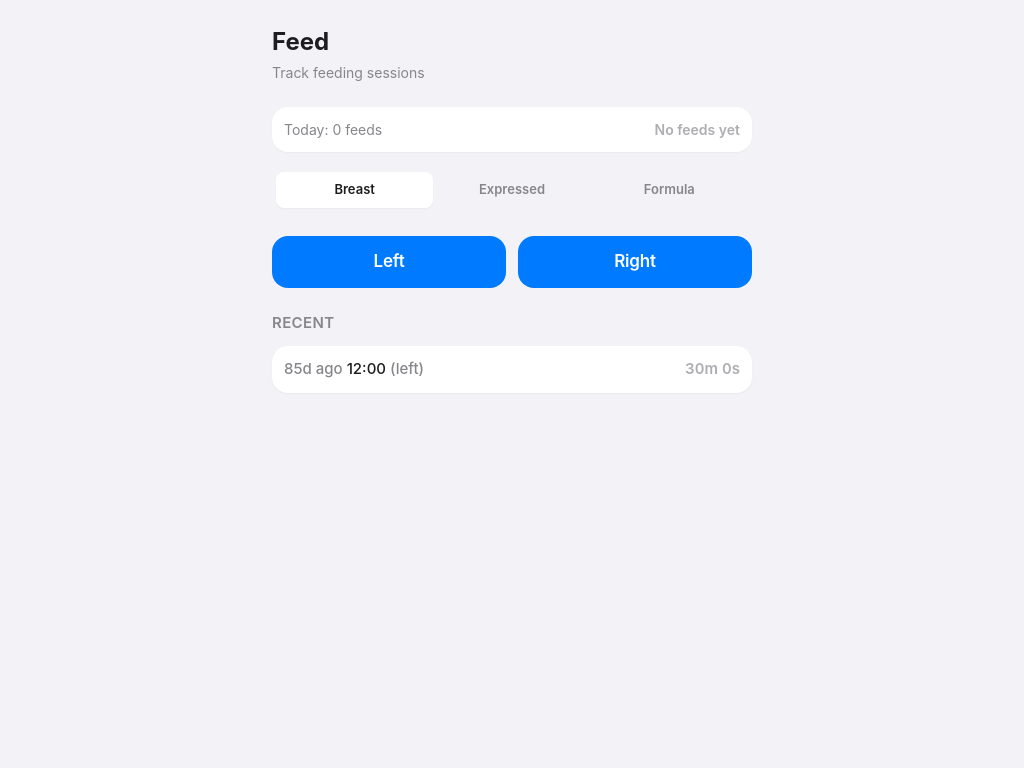
Test: Feed › shows error toast for invalid amount
Step 1. Click the button "Formula" → click(669, 190), box [591,172,748,208]
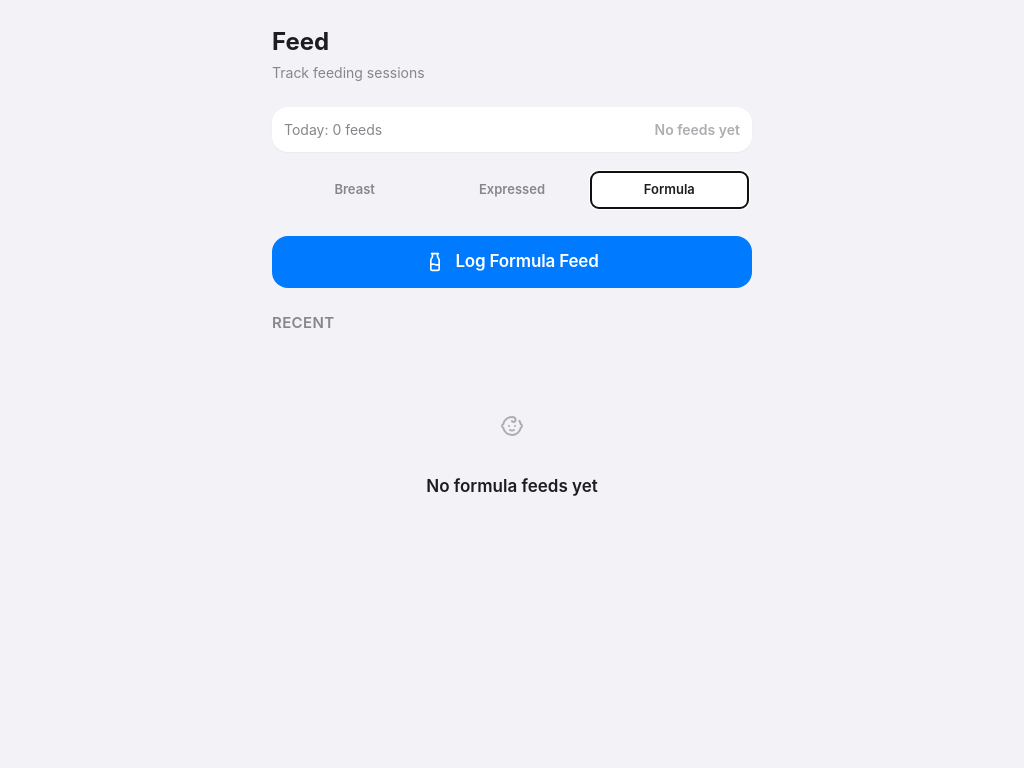
Step 2. Click the button "Log Formula Feed" → click(512, 262), box [272,236,752,288]
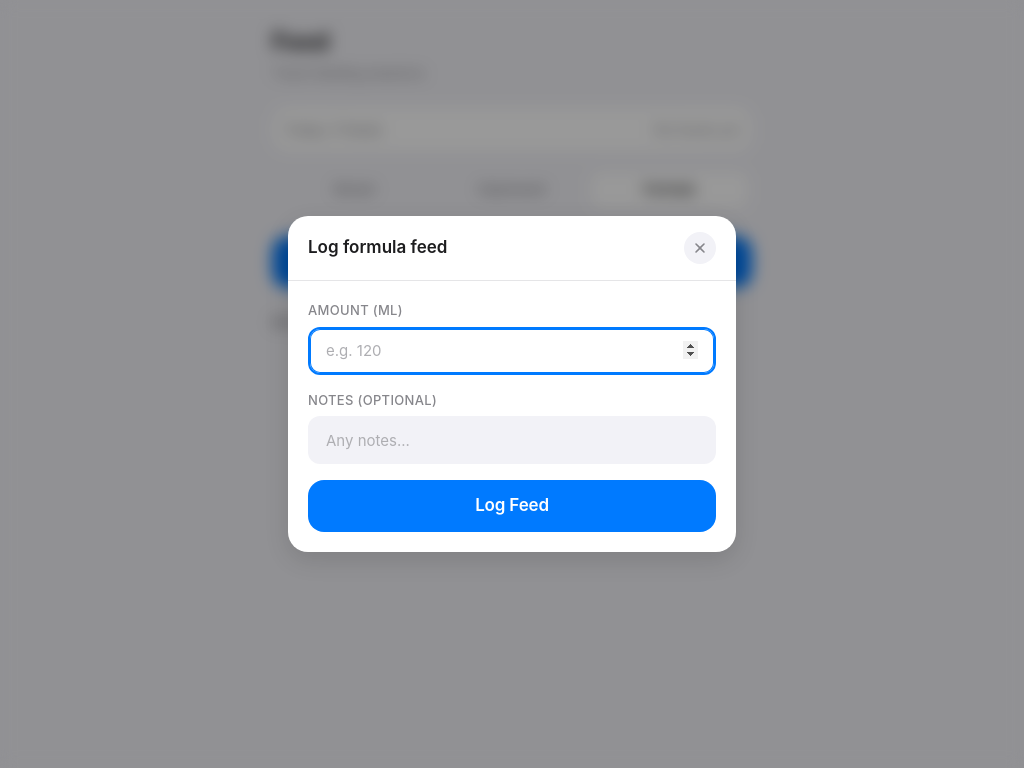
Submit without entering an amount
Step 3. Click the button "Log Feed" → click(512, 506), box [308,480,716,532]
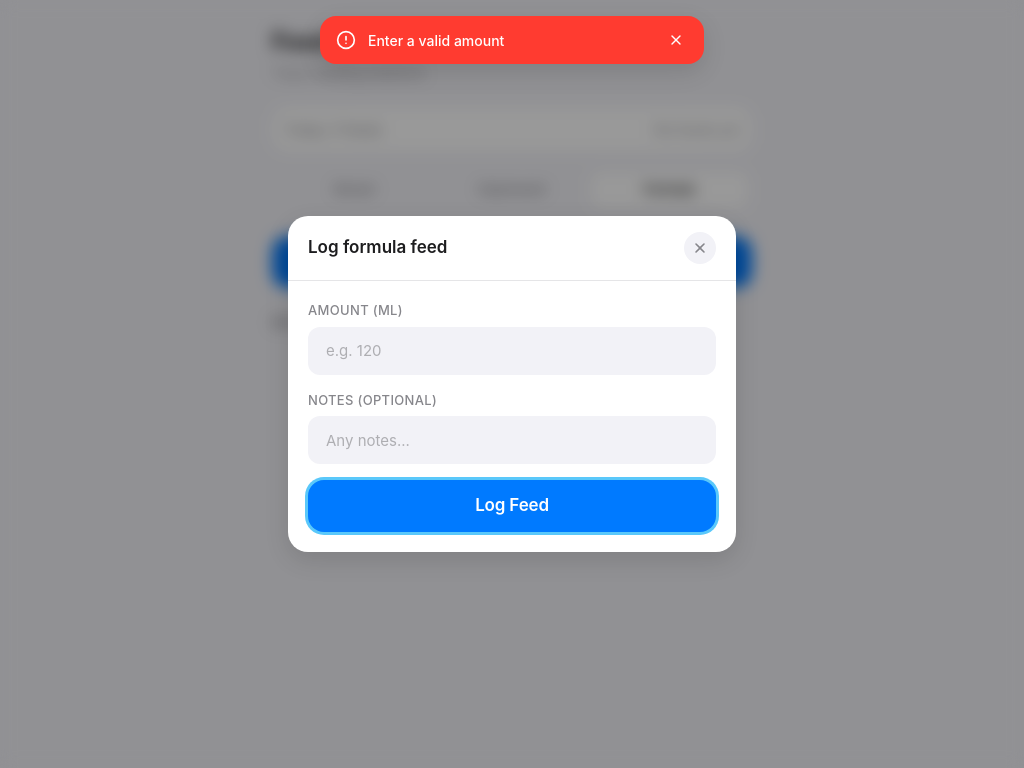
Expected: the text "Enter a valid amount" is shown, [368,32,504,48]
